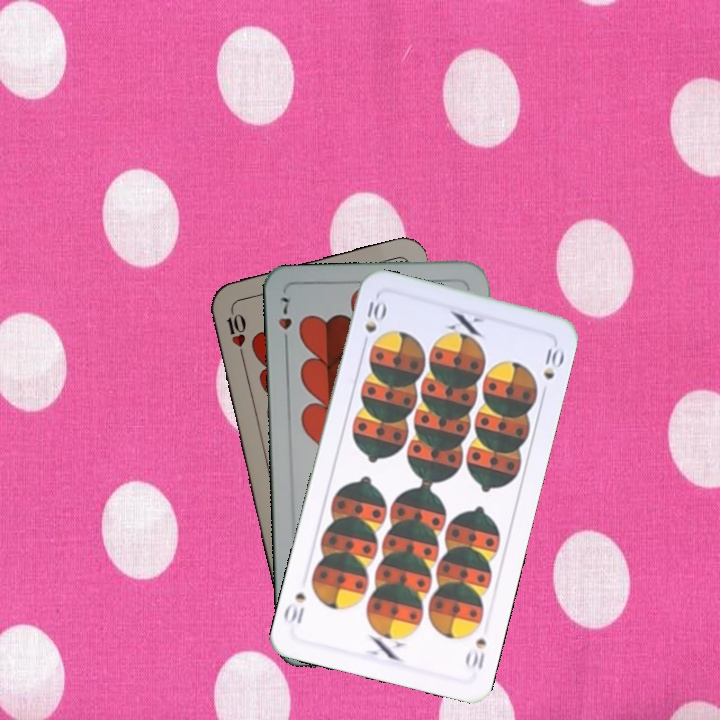H10: (223, 304, 248, 362)
H7: (274, 292, 295, 349)
S10: (358, 297, 388, 351), (461, 634, 489, 673)
